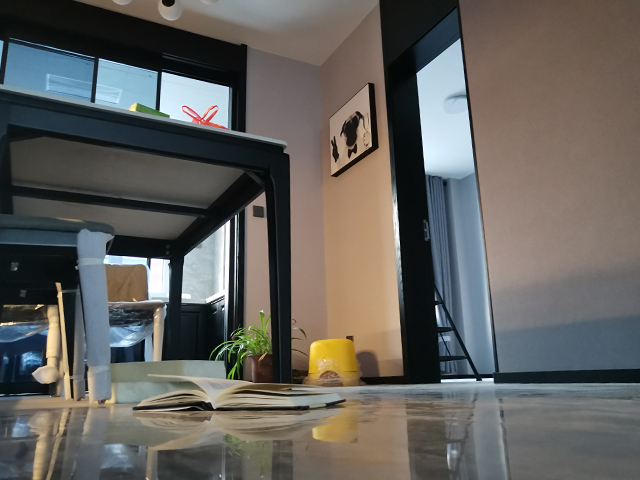book: (131, 372, 348, 414)
cabinet: (156, 290, 228, 374)
curtain: (427, 171, 460, 376)
stool: (1, 211, 117, 409), (305, 337, 361, 388)
table: (1, 87, 293, 387)
